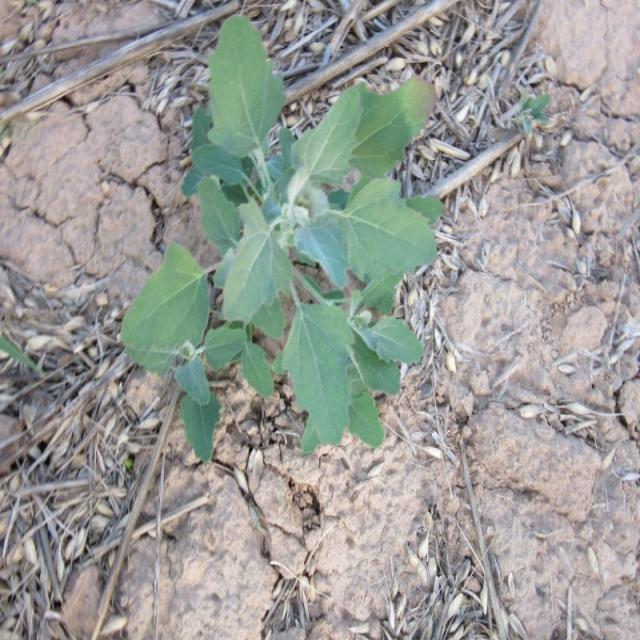ca: (120, 12, 440, 467)
